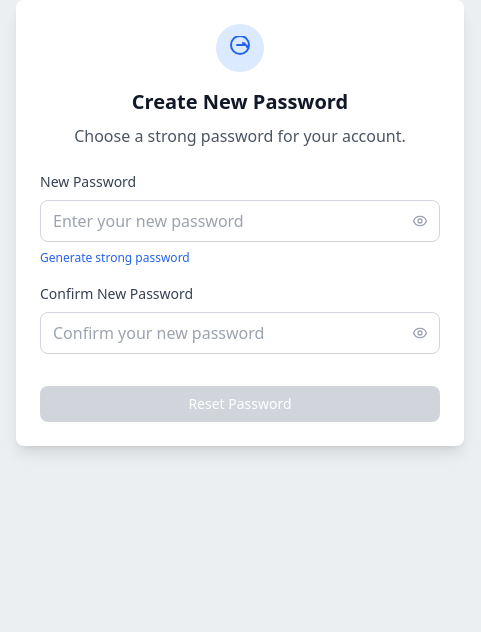
PasswordResetConfirm › Password Generation › should show strong strength for generated password
The image size is (481, 632).
Check: the heading "Create New Password" is shown, box [132,88,348,115]
Click the button "Generate strong password": (115, 258) [40,250,190,266]
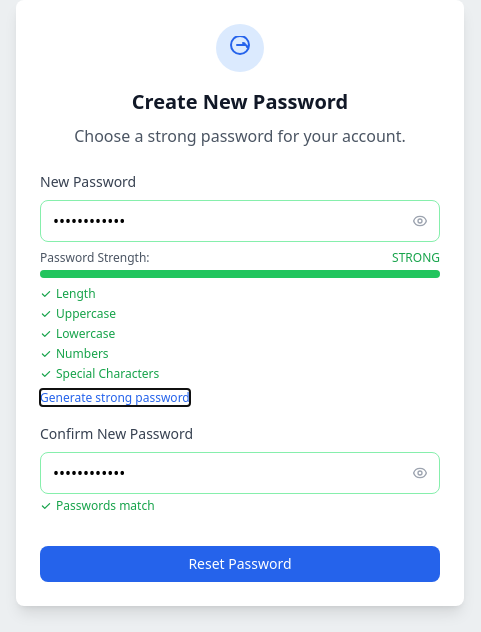
Check: the text "STRONG" is shown, box [392,250,440,266]
